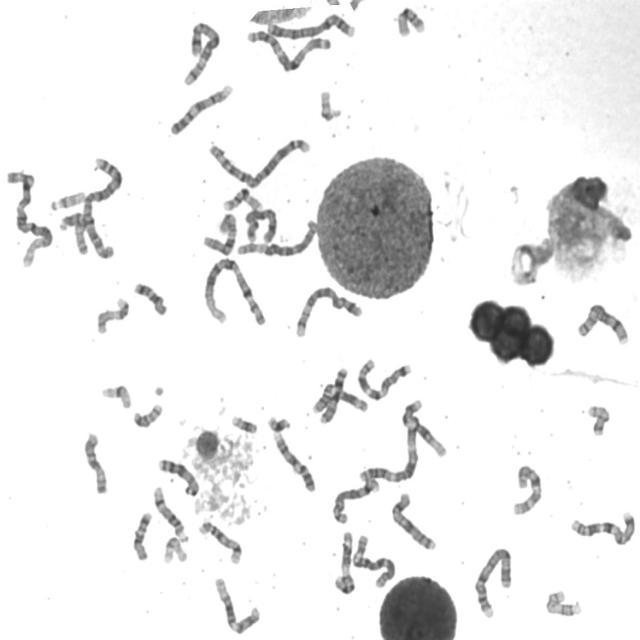A1: (5, 166, 55, 270), (200, 254, 268, 328)
A2: (205, 132, 314, 189), (78, 152, 125, 260)
A3: (357, 396, 424, 485), (244, 27, 333, 73)
B4: (472, 544, 514, 620), (264, 11, 357, 40)
B5: (292, 283, 364, 339), (181, 18, 222, 87)
C10: (510, 461, 545, 518), (200, 208, 240, 256)
C11: (310, 381, 370, 415), (332, 527, 357, 596)
C12: (399, 396, 449, 459), (212, 574, 262, 636)
C6: (234, 216, 320, 259), (350, 531, 397, 590)
C7: (355, 355, 413, 402), (568, 508, 637, 547)
C8: (329, 475, 382, 526), (575, 300, 631, 347)
C9: (168, 80, 234, 137), (270, 428, 318, 494)
D13: (317, 364, 350, 426), (155, 456, 200, 498)
D14: (150, 483, 190, 543), (196, 518, 243, 566)
D15: (81, 429, 110, 496), (58, 208, 92, 256)
E16: (394, 2, 427, 38), (221, 185, 264, 212)
E17: (94, 293, 131, 336), (542, 586, 584, 618)
E18: (131, 278, 169, 318), (130, 508, 154, 562)
F19: (98, 382, 134, 411), (160, 532, 190, 566)
F20: (585, 401, 612, 438), (130, 400, 164, 429)
G21: (229, 412, 260, 435), (265, 412, 292, 433)
G22: (48, 186, 86, 212), (317, 86, 343, 123)
X: (388, 489, 439, 552), (242, 204, 280, 245)
